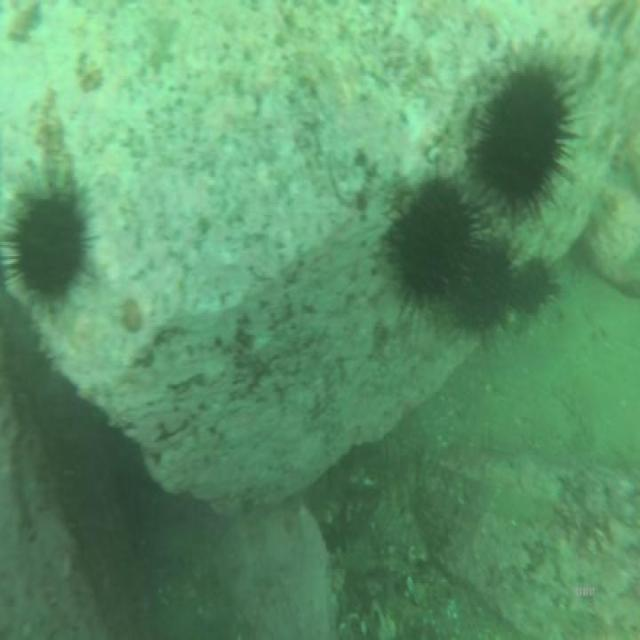echinus: (468, 52, 588, 217), (0, 163, 108, 319), (383, 158, 488, 313), (460, 214, 526, 352), (505, 244, 565, 336)
